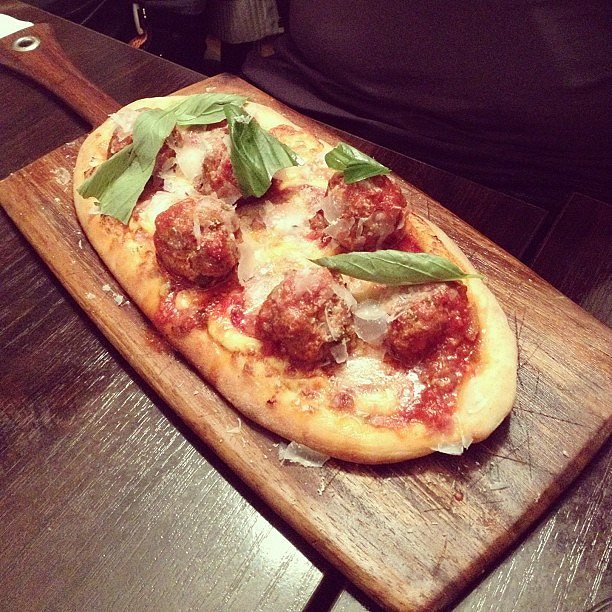meatballs: (264, 279, 361, 355), (158, 199, 239, 279), (377, 289, 459, 349), (332, 175, 401, 244), (188, 134, 241, 191)
